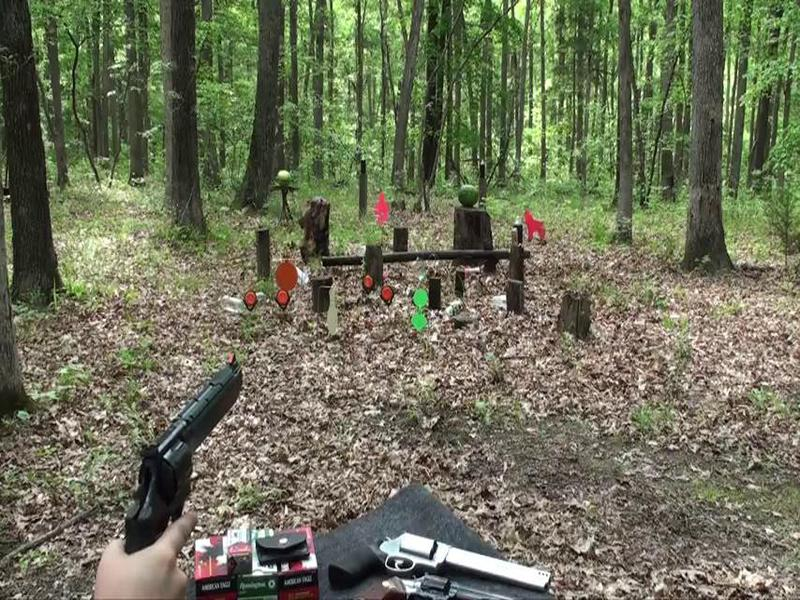Revolver: (119, 354, 266, 562)
